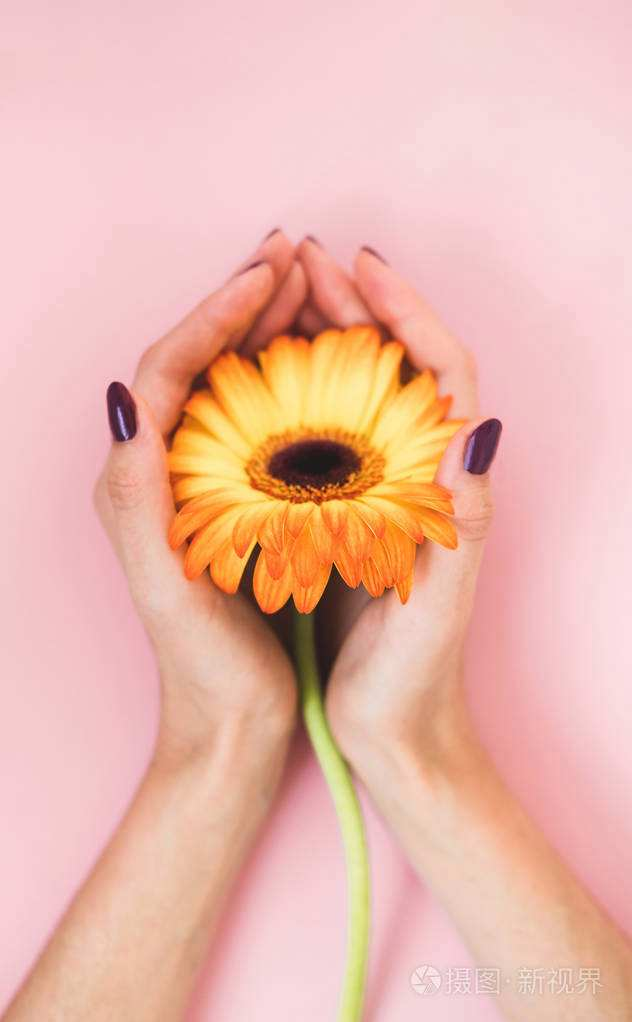no-phone: (87, 217, 514, 819)
